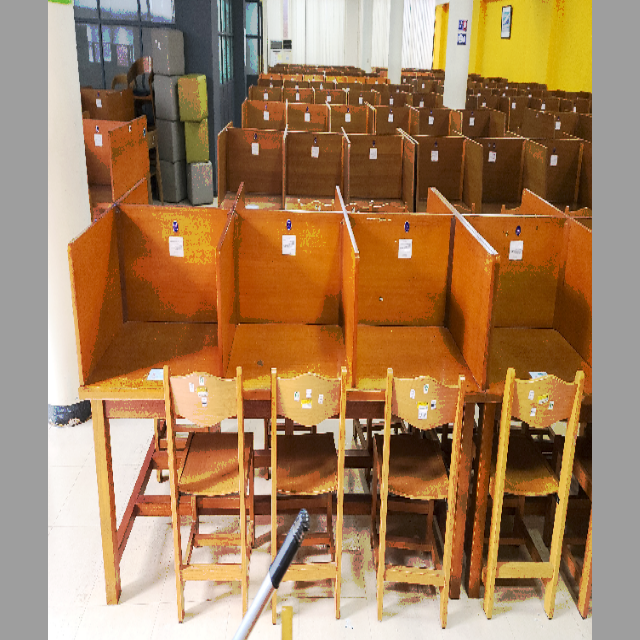empty: (73, 225, 220, 499), (226, 221, 359, 483), (365, 220, 490, 467)
